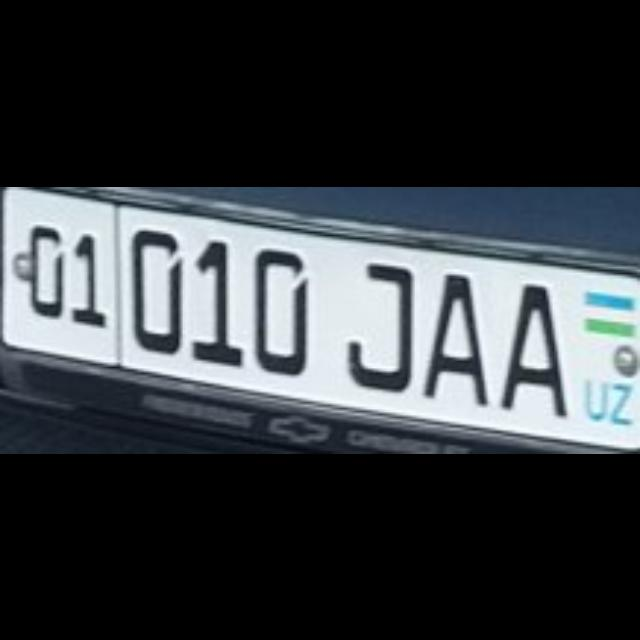0: (250, 242, 302, 371), (126, 222, 176, 351), (24, 218, 62, 316)
1: (188, 236, 240, 362), (68, 227, 100, 321)
A: (496, 278, 564, 412), (420, 268, 484, 400)
J: (343, 254, 411, 388)
